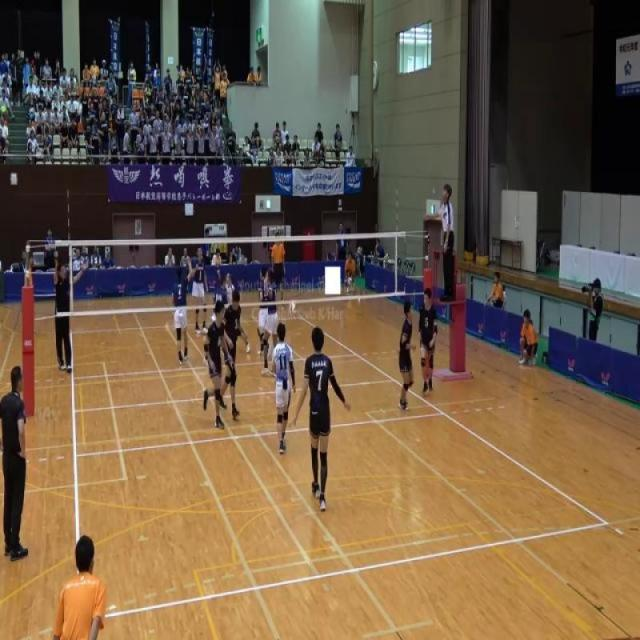volleyball: (288, 300, 298, 315), (348, 277, 352, 285)
